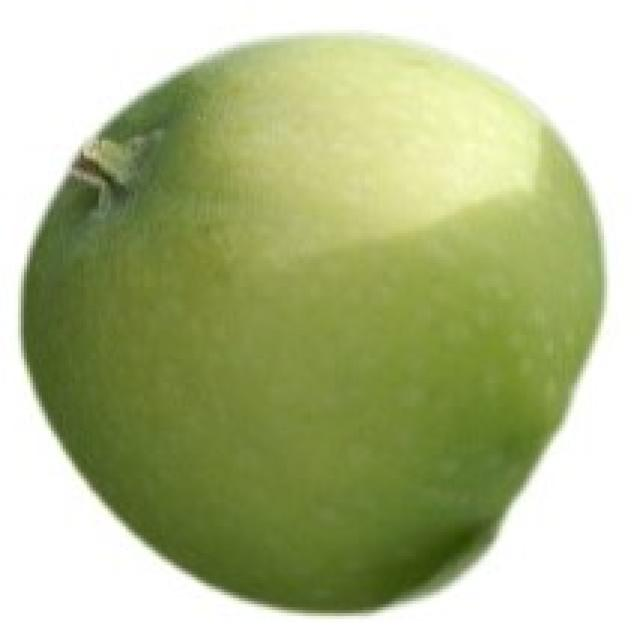50-_ripeness: (23, 26, 605, 615)
